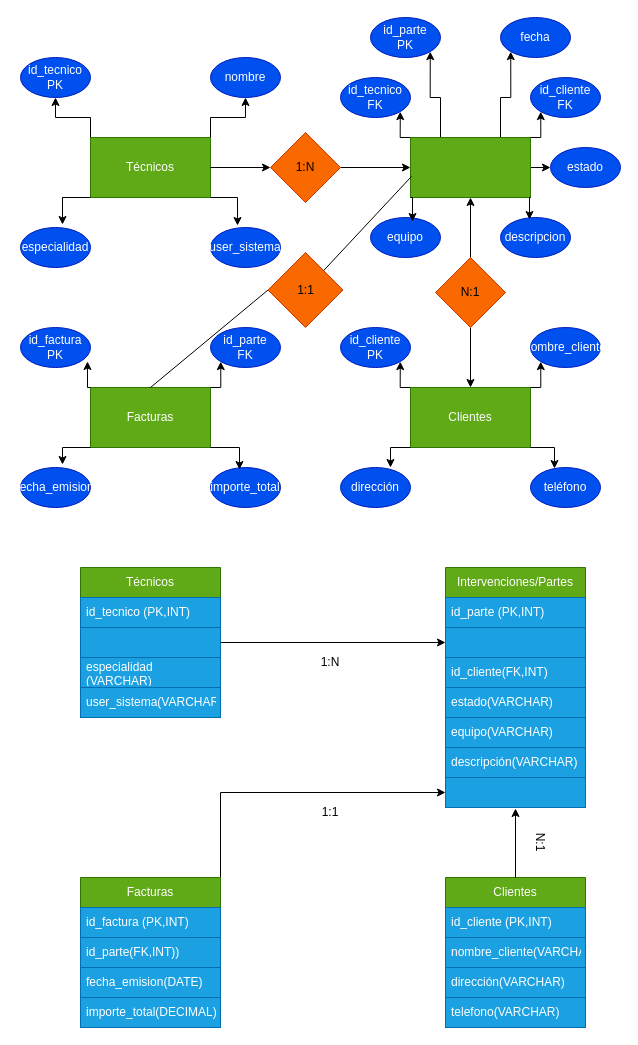
Some shapes in this 638 by 1045 pixel diagram are drawn without their labels. Each missing label, with the centre of its shape:
"fecha(DATE)" belongs at (x=515, y=792).
"id_tecnico(FK,INT))" belongs at (x=515, y=642).
"Intervenciones Partes" belongs at (x=470, y=167).
"nombre(VARCHAR)" belongs at (x=150, y=642).
